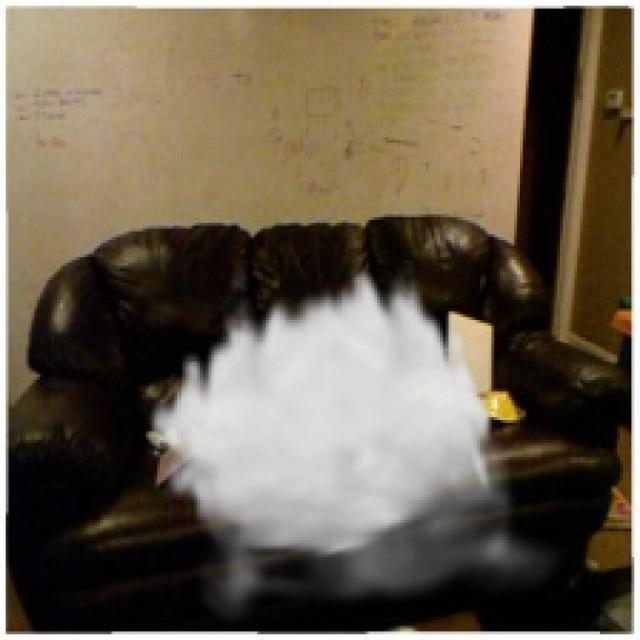Smoke: (146, 260, 568, 629)
